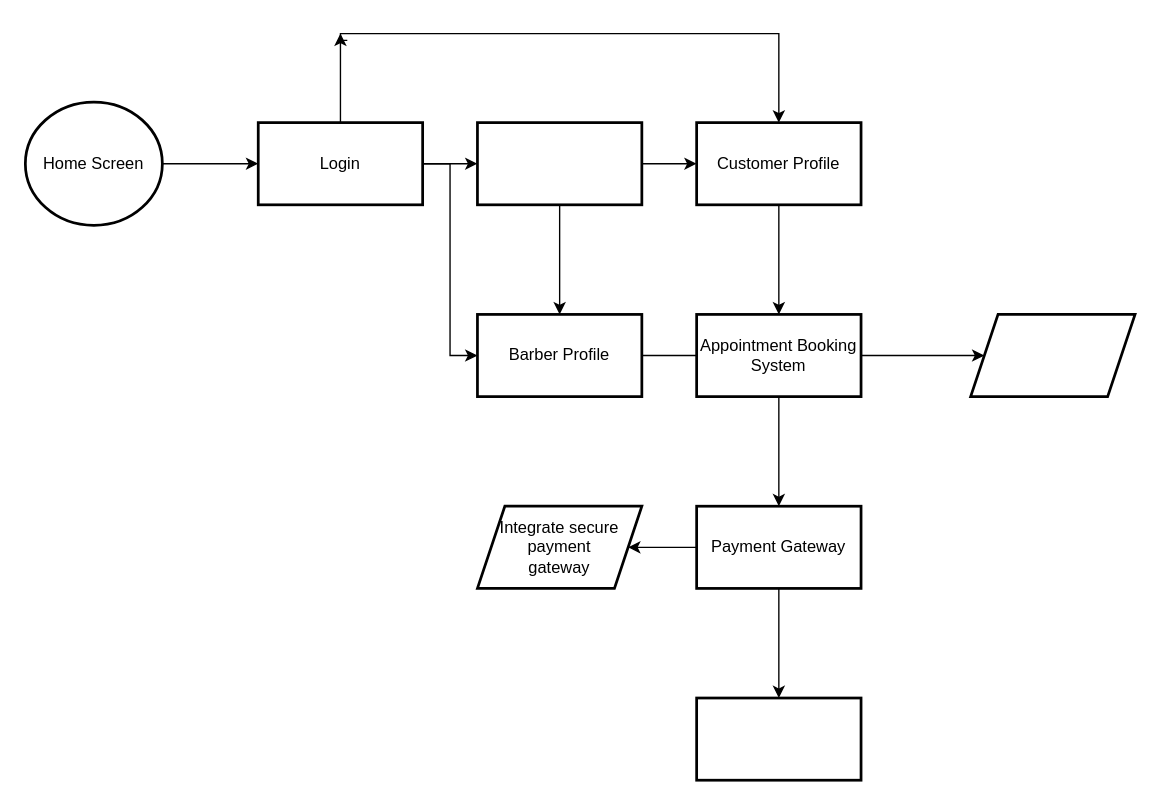
This 1159x806 diagram has some shape labels left out. The centre of each missing label's shape, as x and y in pixels:
Implement scheduling system: point 1052,354
Notifications for both Customers and Barbers: point 778,738
Sign-Up: point 559,163
